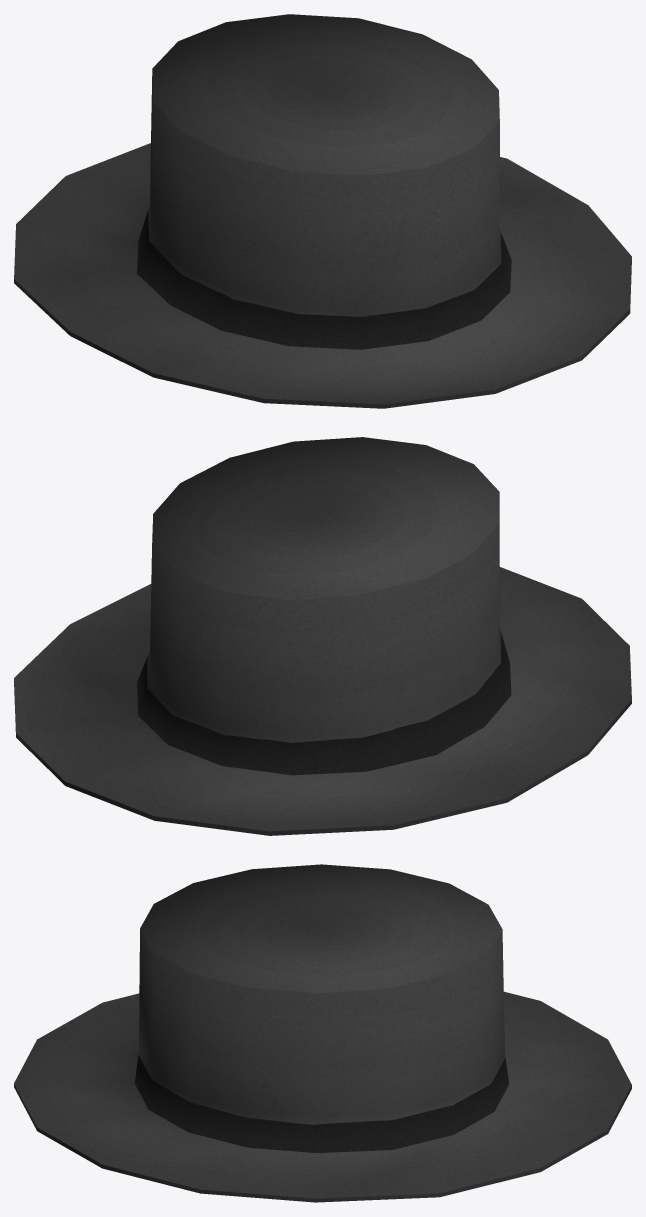
Rendered from DesperadoHat_WorldItem.fbx.
3 views of the same model, one above another, from view 1: azimuth 30°, elevation 25°; view 2: azimuth 150°, elevation 25°; view 3: azimuth 270°, elevation 25° (orthographic). The views are drawn at different scales.
Parts seen in each view (by area): view 1: Circle; view 2: Circle; view 3: Circle.
Part boxes in pixels (left/top/right/bottom): Circle: left=14, top=14, right=631, bottom=408; Circle: left=14, top=437, right=631, bottom=835; Circle: left=14, top=864, right=631, bottom=1202.
Size of the model in its own units: 0.4895 by 0.1617 by 0.5579.
